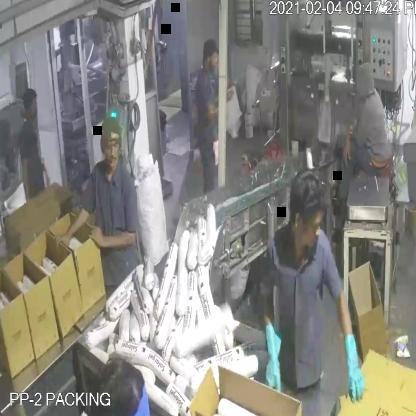glove: (335, 321, 375, 412), (257, 316, 288, 402)
no_glove: (50, 204, 92, 256), (89, 221, 136, 256), (337, 123, 358, 172), (20, 154, 35, 204)
